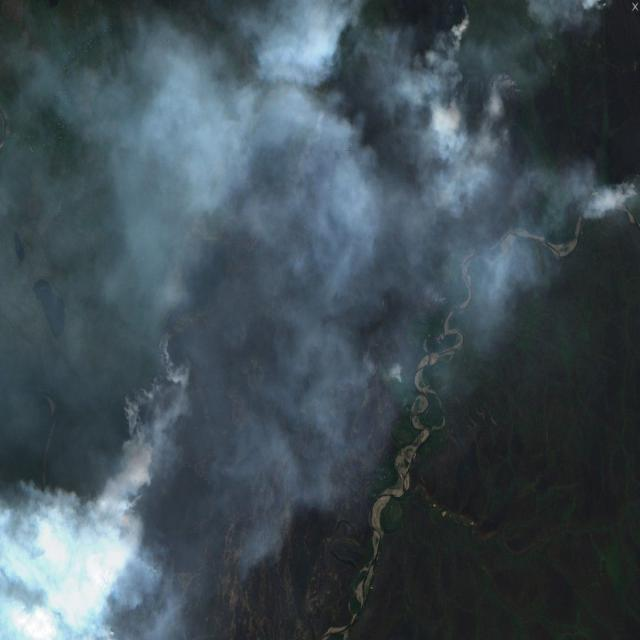fire: (96, 440, 156, 535), (153, 342, 216, 426), (492, 68, 526, 113), (449, 3, 476, 41)
